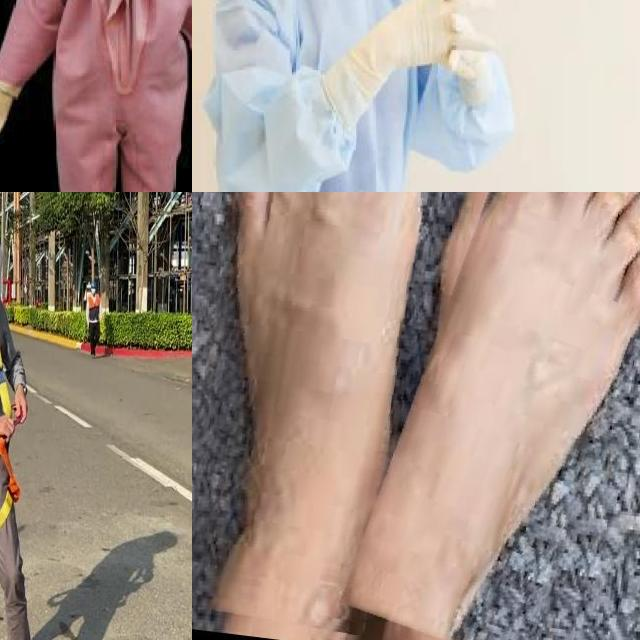Barefoots: (367, 192, 640, 640), (192, 192, 458, 636)
Harness: (0, 438, 21, 532)
hand_glove: (0, 86, 11, 142)
hand_noglove: (384, 0, 499, 95)
person: (201, 0, 533, 192), (0, 0, 192, 192)
